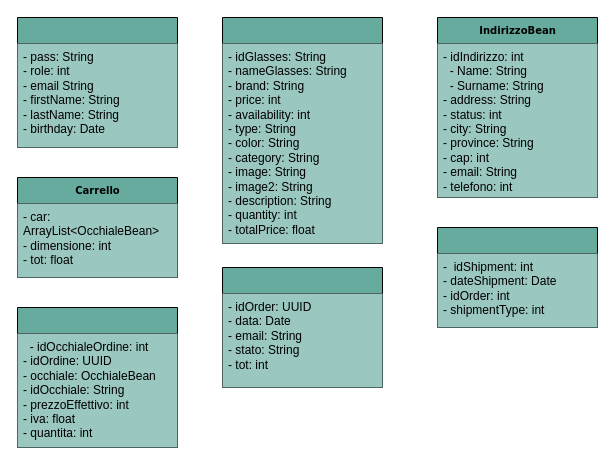
Image size: 615x468. Some labels were removed from this diagram. The box of each missing label's shape, as (x1, y1, x2, y2) in pixels:
OcchialeBean: (222, 16, 382, 244)
OcchialeOrdineBean: (16, 306, 178, 448)
OrdineBean: (222, 266, 382, 388)
SpedizioneBean: (436, 226, 598, 328)
UtenteBean: (16, 16, 178, 148)
